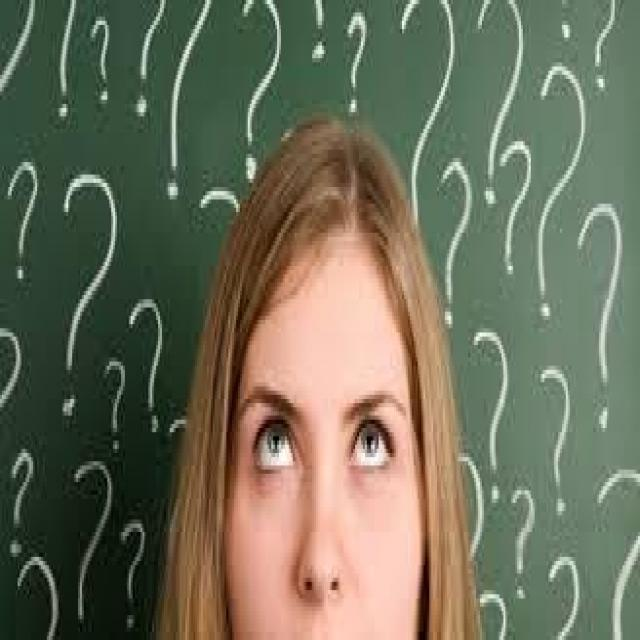person: (154, 87, 435, 636)
